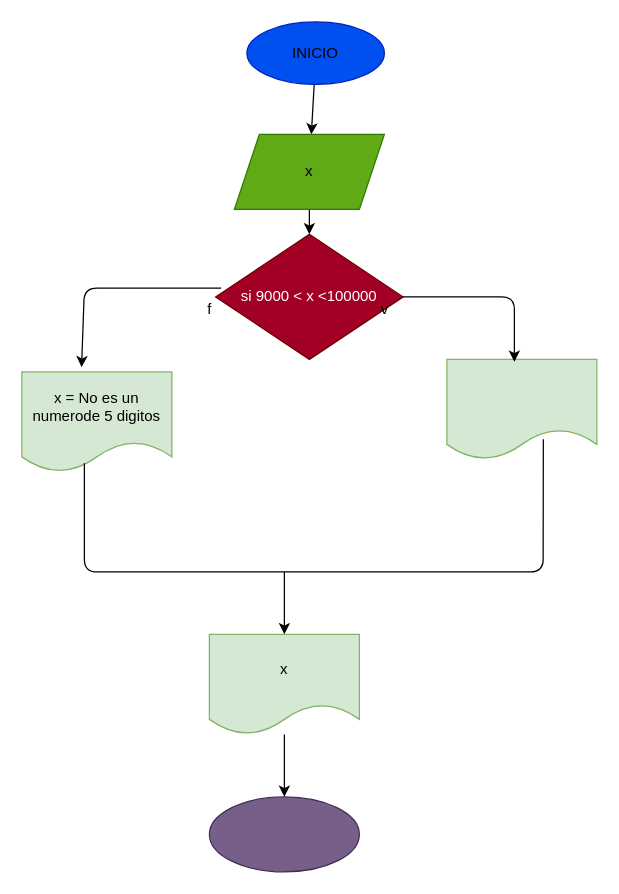
Image size: 619x894. Some labels were removed from this diagram. Each missing label, with the centre of its shape:
"fin" belongs at point (283, 834).
"x = es un muemero de 5 gifiyos" belongs at point (521, 408).
